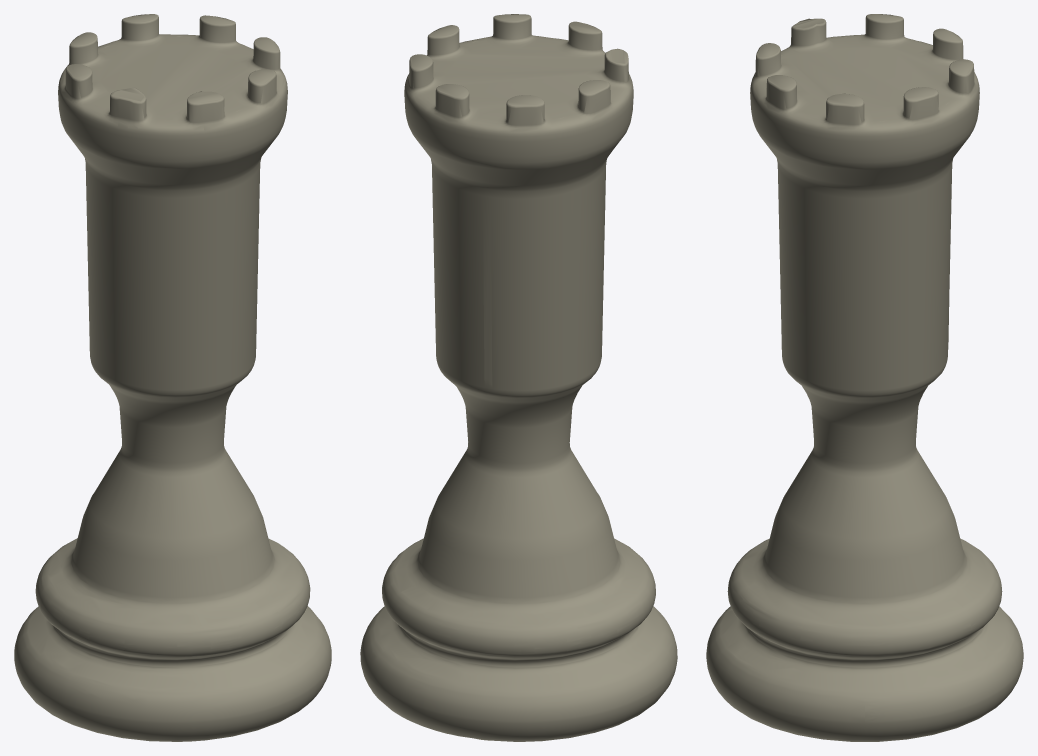
3 renders of one model, left to right at view 1: azimuth 30°, elevation 25°; view 2: azimuth 150°, elevation 25°; view 3: azimuth 270°, elevation 25°, orthographic.
Parts seen in each view (by area): view 1: White chess side.011_16; view 2: White chess side.011_16; view 3: White chess side.011_16.
Part boxes in pixels (x1,y1,x2,y2): White chess side.011_16: (14, 14, 331, 741); White chess side.011_16: (360, 14, 677, 741); White chess side.011_16: (706, 14, 1023, 741).
Bounding box in the file's own units: 1.29 × 2.84 × 1.29.
